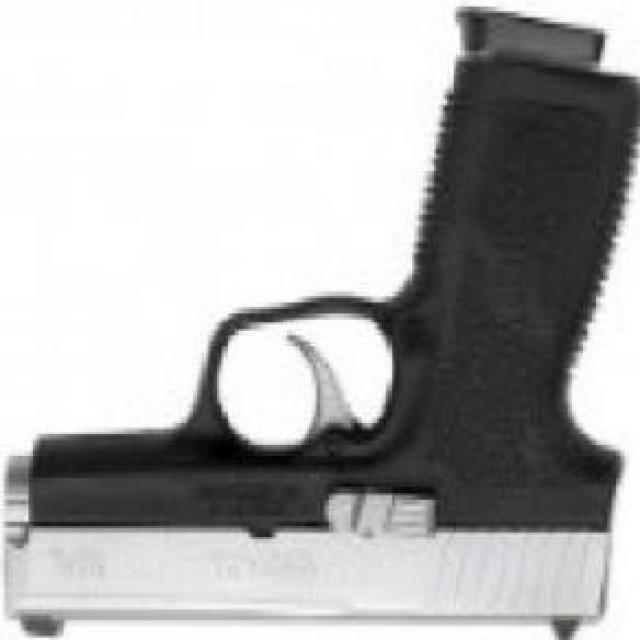pistol: (4, 11, 640, 636)
